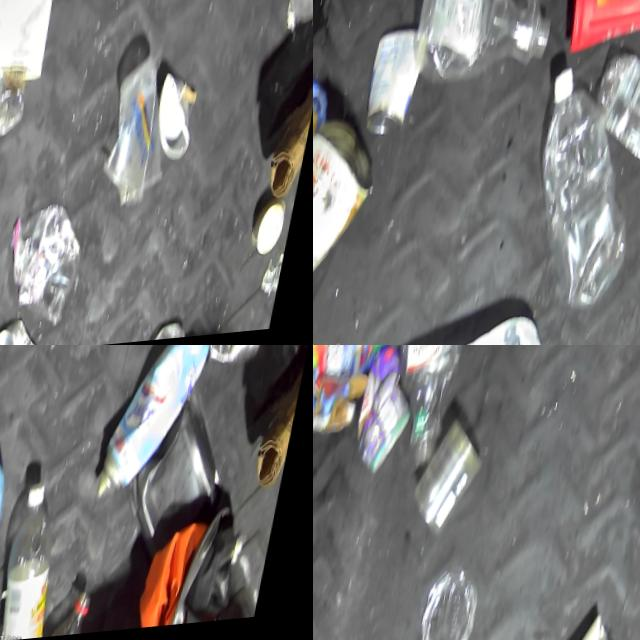can: (357, 11, 433, 148), (411, 416, 494, 540), (348, 348, 421, 483), (203, 345, 277, 384), (543, 608, 633, 640)
non_white_jug: (549, 0, 640, 81)
plastic_bottle: (512, 69, 640, 327), (407, 0, 574, 102), (372, 345, 474, 474), (0, 486, 83, 640), (581, 36, 640, 189)
